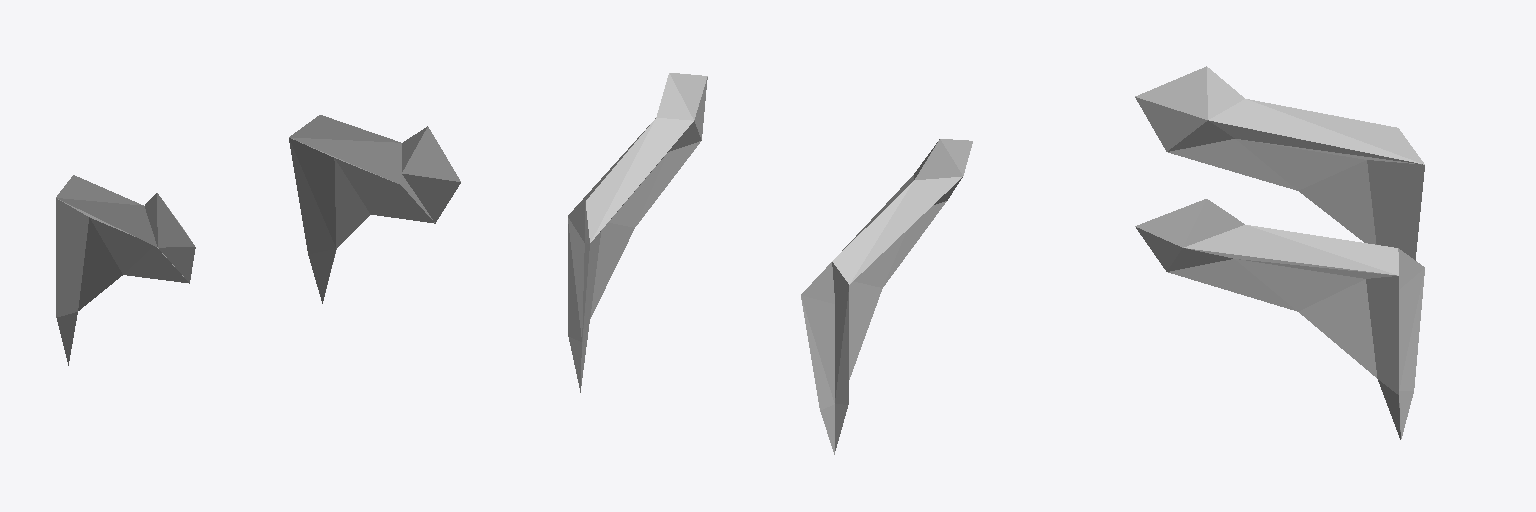
File: wing00.obj
3 renders of one model, left to right at view 1: azimuth 30°, elevation 25°; view 2: azimuth 150°, elevation 25°; view 3: azimuth 270°, elevation 25°, orthographic.
Parts seen in each view (by area): view 1: wing0_matMain wing0, wing0 matWing; view 2: wing0_matMain wing0, wing0 matWing; view 3: wing0_matMain wing0, wing0 matWing.
Part boxes in pixels (x1,y1,x2,y2): wing0_matMain wing0: (56,115,460,365); wing0 matWing: (78,158,434,310); wing0_matMain wing0: (568,73,972,454); wing0 matWing: (590,141,946,379); wing0_matMain wing0: (1135,66,1424,439); wing0 matWing: (1168,139,1376,377).
Size of the model in its own units: 0.7218 by 0.5809 by 0.6184.